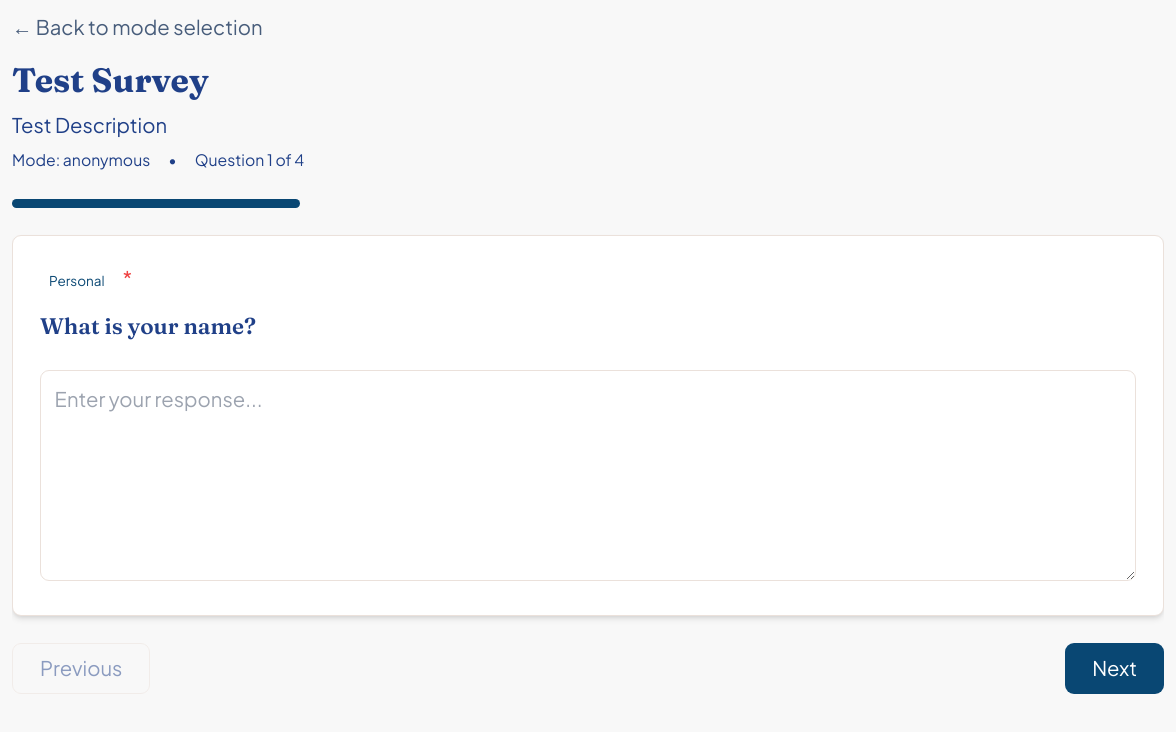
Test: SurveyForm › Question Navigation › should navigate to previous question
// Fill first question and go to second
In the text box with placeholder "Enter your response...": x=588, y=475 x1=40 y1=370 x2=1136 y2=581, type "John Doe"
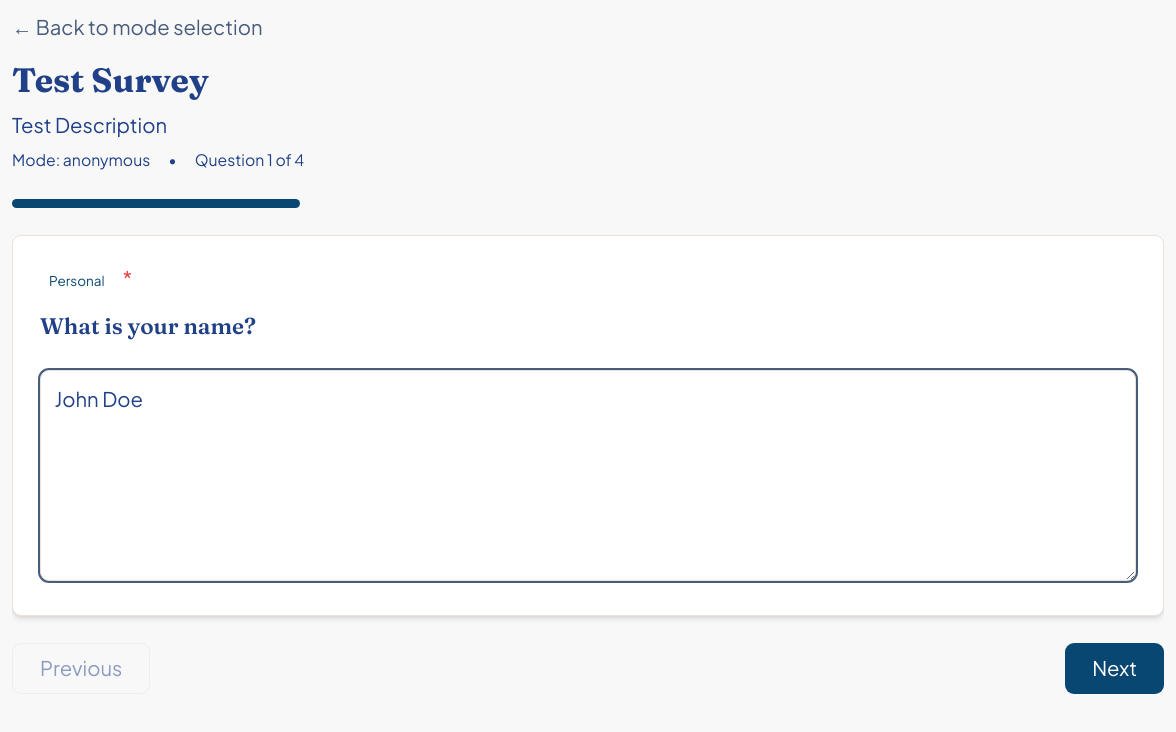
Click the button "Next": x=1115, y=668 x1=1065 y1=643 x2=1164 y2=694
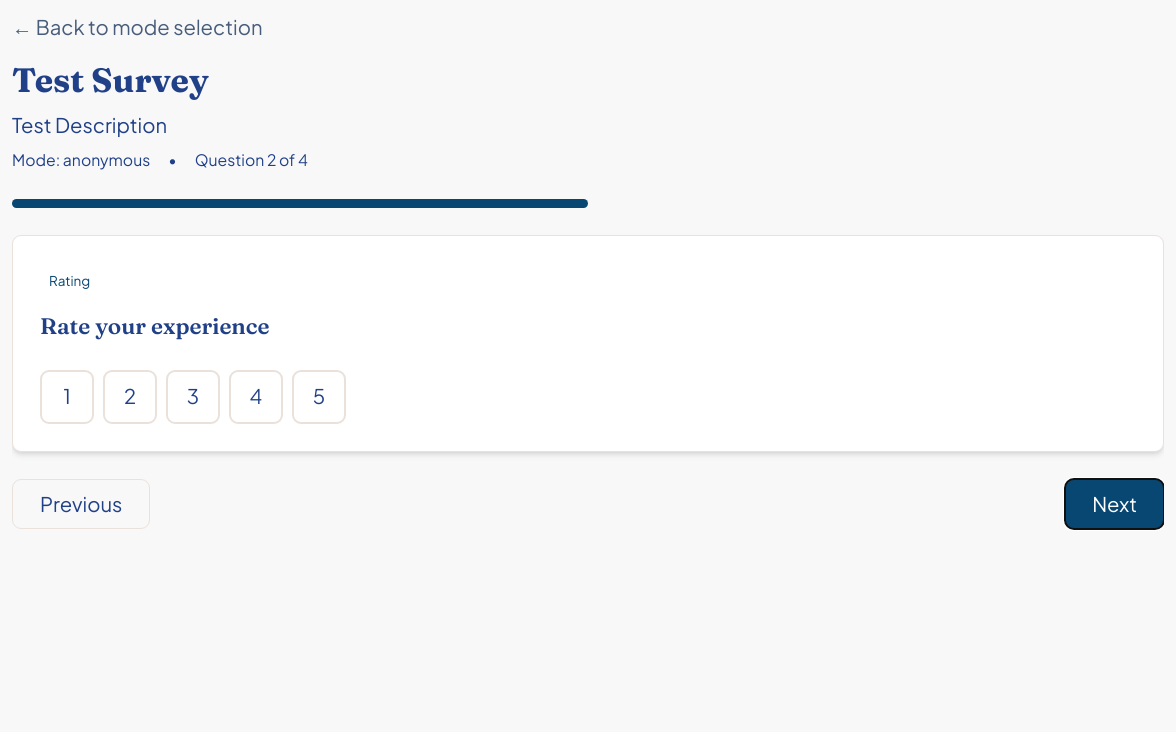
Check: the heading "Rate your experience" is shown, box x1=40 y1=312 x2=270 y2=340
// Click Previous
Click the button "Previous": x=81, y=504 x1=12 y1=479 x2=150 y2=529
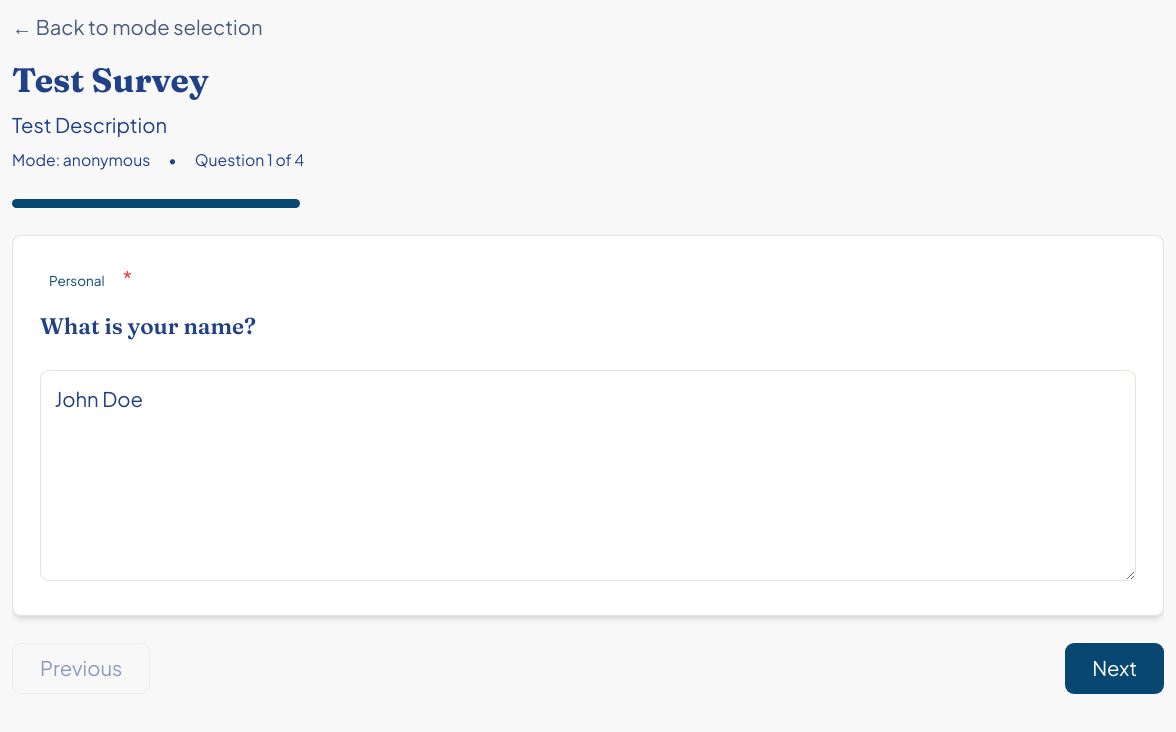
Check: the heading "What is your name?" is shown, box x1=40 y1=312 x2=256 y2=340
